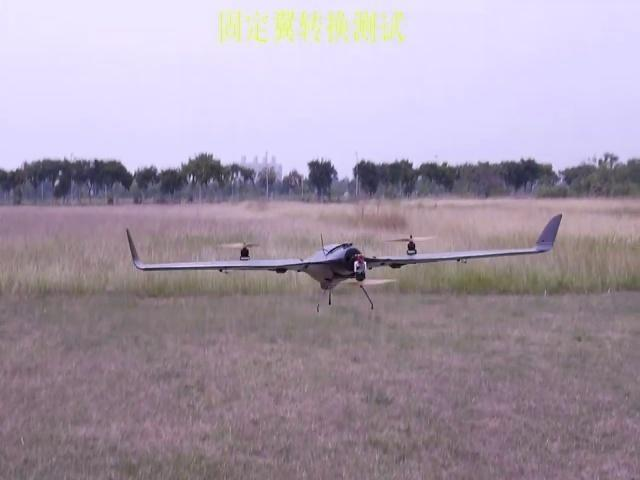Airplane: (125, 214, 563, 309)
